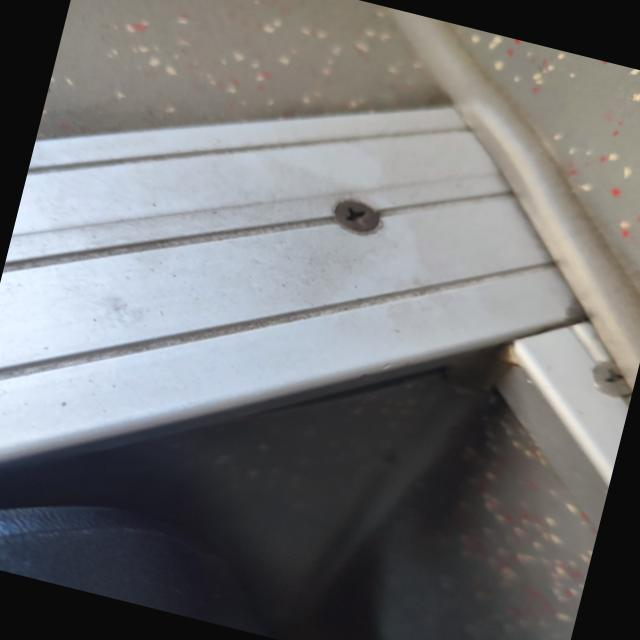Phillips: (318, 192, 391, 250)
